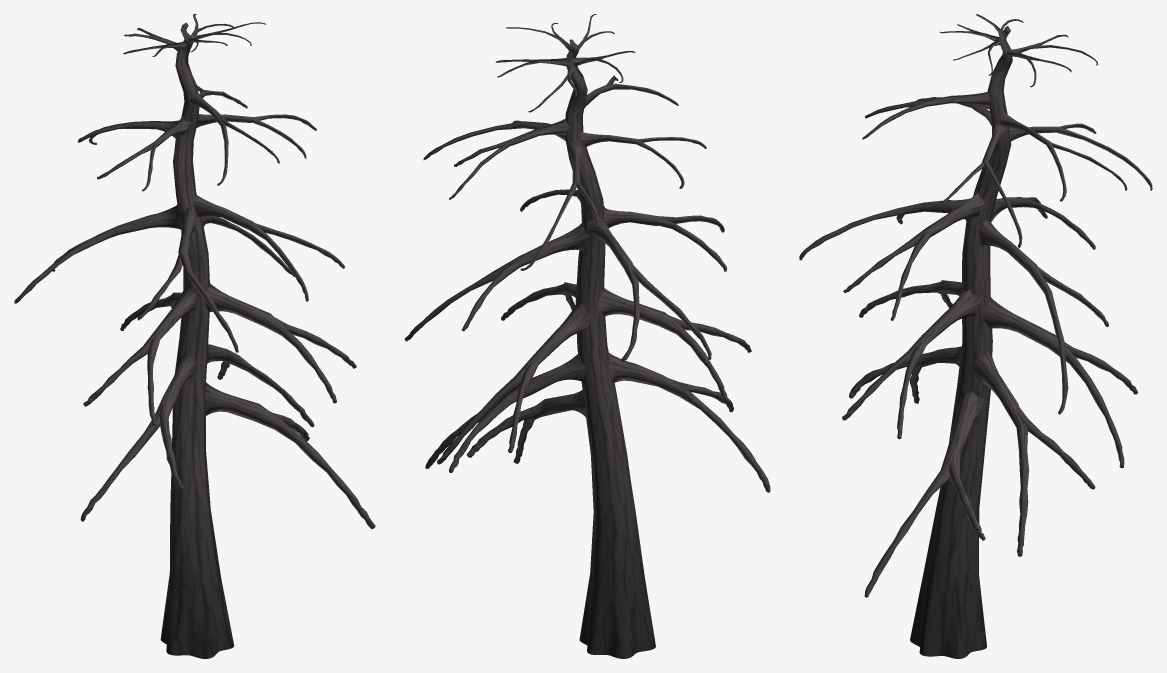
The model's file is dead_1.glb.
The picture shows the model from 3 angles, left to right: view 1: azimuth 30°, elevation 25°; view 2: azimuth 150°, elevation 25°; view 3: azimuth 270°, elevation 25°; orthographic projection. The views are drawn at different scales.
Visible parts, largest first — view 1: DeadTree_5; view 2: DeadTree_5; view 3: DeadTree_5.
Boxes of the visible parts, x1=… form: DeadTree_5: x1=14, y1=14, x2=375, y2=658; DeadTree_5: x1=404, y1=14, x2=770, y2=658; DeadTree_5: x1=799, y1=14, x2=1152, y2=658.
Size of the model in its own units: 8.36 by 16.44 by 8.41.
1 material, 1 textured.
